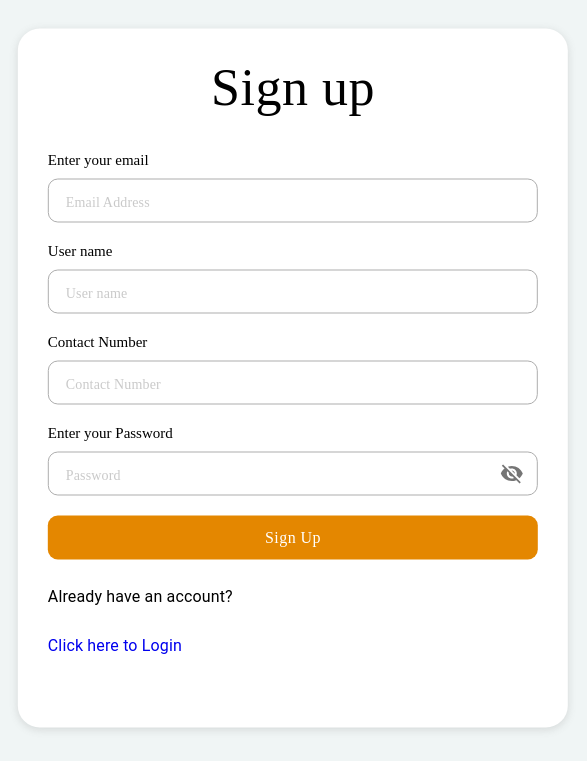
Scenario: Register › should display error message for invalid contact number format
The width and height of the screenshot is (587, 761).
Type "123" into the number field with test id "contactNumber-input" at (293, 382), box 48,360 -> 538,404
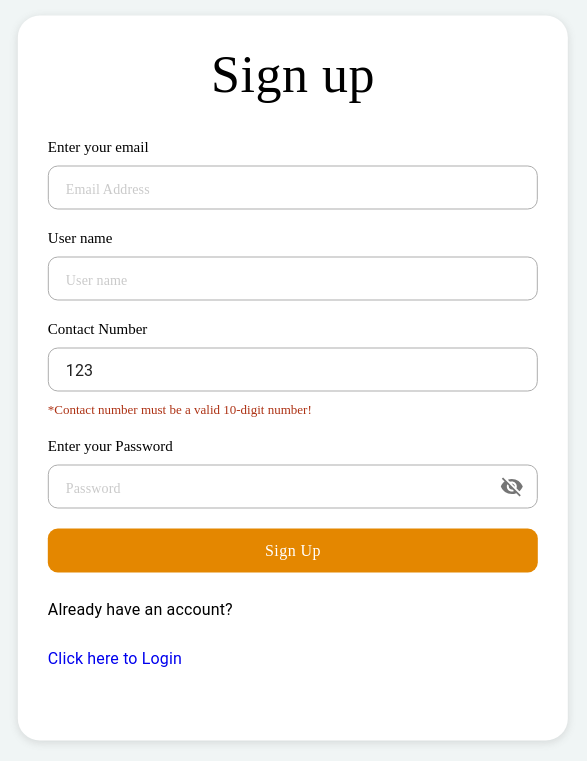
Result: the text with test id "contactNumber-error" reads "*Contact number must be a valid 10-digit number!" at 48,402 -> 312,416
Result: the text "*Contact number must be a valid 10-digit number!" is shown at 48,402 -> 312,418
